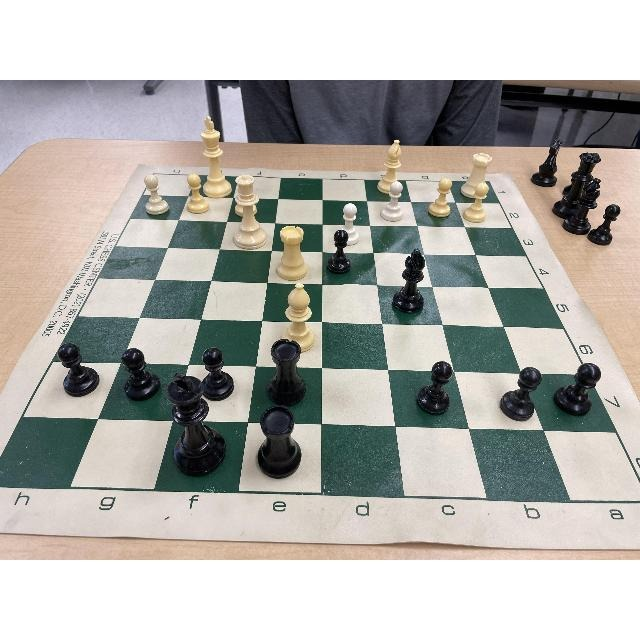black-bishop: (392, 245, 427, 314)
black-king: (166, 371, 229, 478)
black-pawn: (552, 361, 602, 418), (499, 365, 543, 421), (56, 343, 98, 397), (120, 348, 162, 402), (416, 360, 453, 417), (198, 347, 235, 401), (327, 230, 353, 276)
black-rook: (254, 405, 304, 479), (264, 340, 310, 408)
white-bishop: (282, 283, 317, 351), (379, 140, 405, 194)
white-king: (197, 114, 231, 196)
white-pawn: (379, 178, 405, 224), (142, 174, 169, 216), (464, 182, 490, 224), (185, 173, 211, 215), (428, 177, 454, 217), (336, 201, 359, 246), (234, 175, 257, 217)
white-queen: (228, 177, 267, 249)
white-rook: (274, 223, 309, 280), (460, 153, 491, 197)
